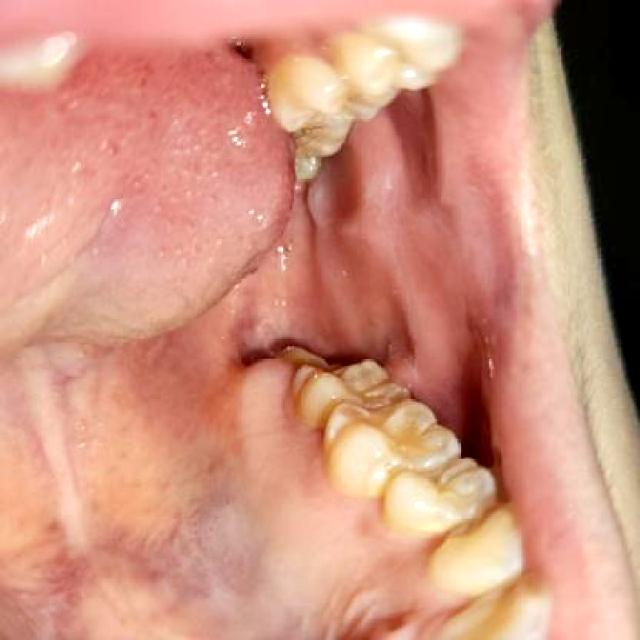Plaque: (263, 367, 343, 469), (409, 514, 451, 567)
